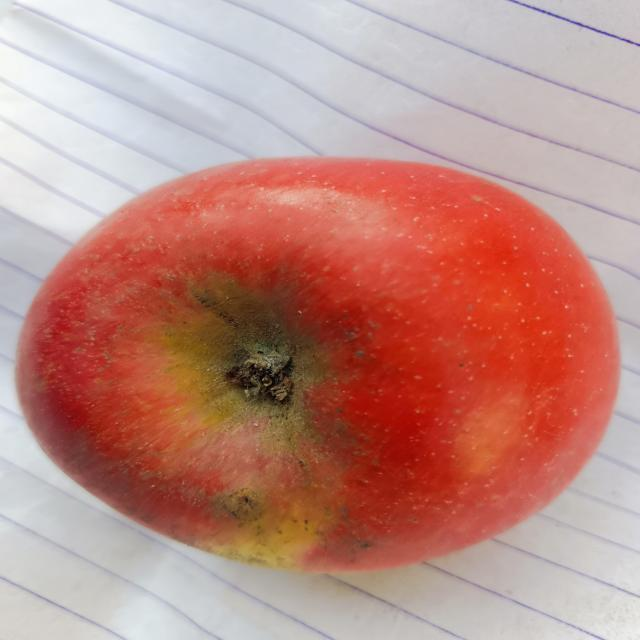Fresh Apple: (13, 154, 623, 562)
